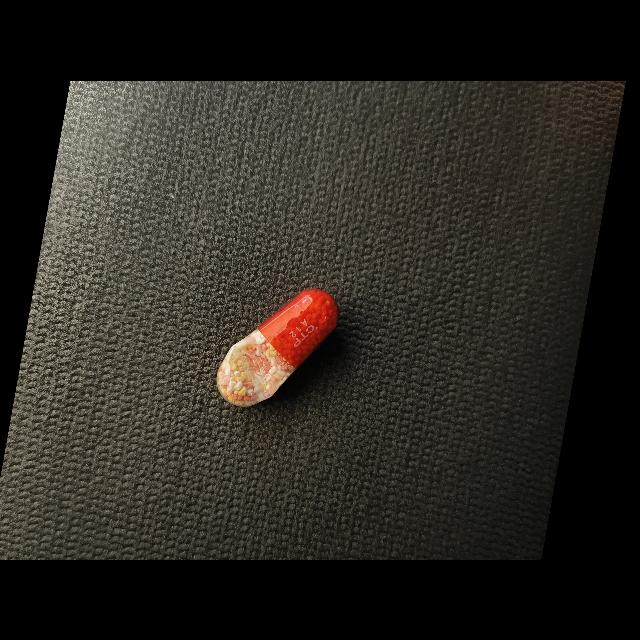Defective Capsule: (216, 288, 340, 406)
